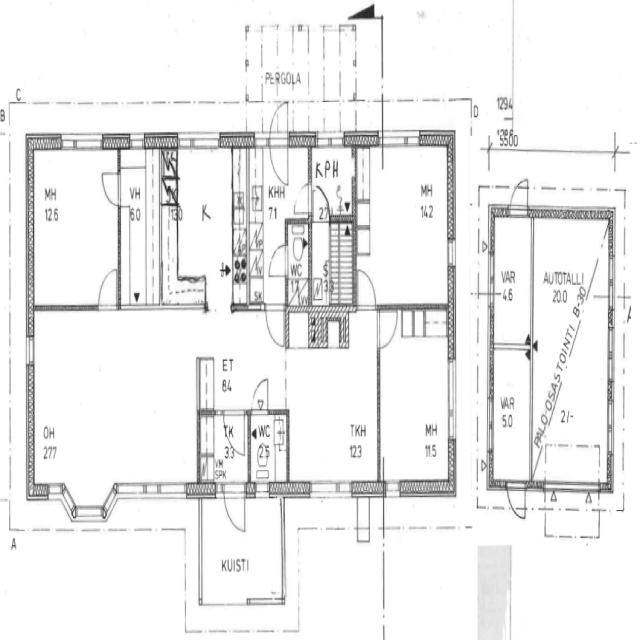door: (269, 100, 290, 187), (220, 408, 249, 459), (222, 482, 248, 538), (263, 300, 287, 351), (96, 263, 120, 312), (355, 264, 378, 313), (376, 306, 400, 351), (99, 167, 123, 209), (506, 479, 528, 524), (508, 176, 530, 218), (250, 374, 271, 416), (268, 242, 289, 282), (310, 184, 330, 222), (292, 182, 312, 219)
window: (72, 498, 108, 534), (307, 476, 353, 503), (140, 478, 187, 504), (446, 352, 458, 441), (59, 132, 105, 155), (178, 132, 222, 154), (58, 478, 78, 524), (380, 130, 420, 150), (605, 392, 616, 461), (485, 390, 496, 459), (606, 313, 616, 388), (102, 479, 119, 521), (245, 592, 281, 610), (314, 131, 346, 151), (606, 246, 616, 303), (24, 328, 36, 369), (47, 478, 65, 505), (446, 234, 457, 275), (254, 480, 271, 502), (385, 476, 401, 499), (128, 131, 146, 150), (253, 131, 270, 151)
zone: (34, 306, 378, 488), (534, 215, 613, 487), (355, 145, 452, 307), (30, 146, 120, 310), (377, 306, 454, 492), (289, 509, 379, 640), (174, 142, 240, 294), (197, 491, 284, 606), (119, 144, 163, 311), (490, 346, 532, 486), (490, 211, 532, 349), (474, 16, 514, 136), (310, 218, 356, 308), (203, 408, 252, 488), (310, 143, 356, 220), (249, 410, 288, 492), (286, 216, 310, 310), (287, 310, 309, 350)
